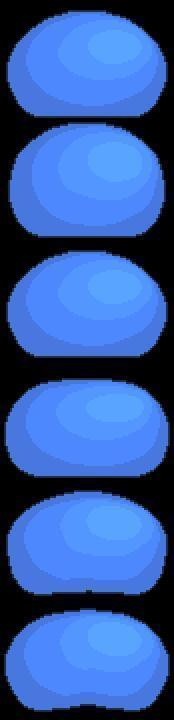slime: (4, 122, 172, 242), (1, 601, 173, 717), (4, 246, 170, 366), (0, 485, 174, 598), (2, 6, 172, 120), (2, 374, 174, 483)
